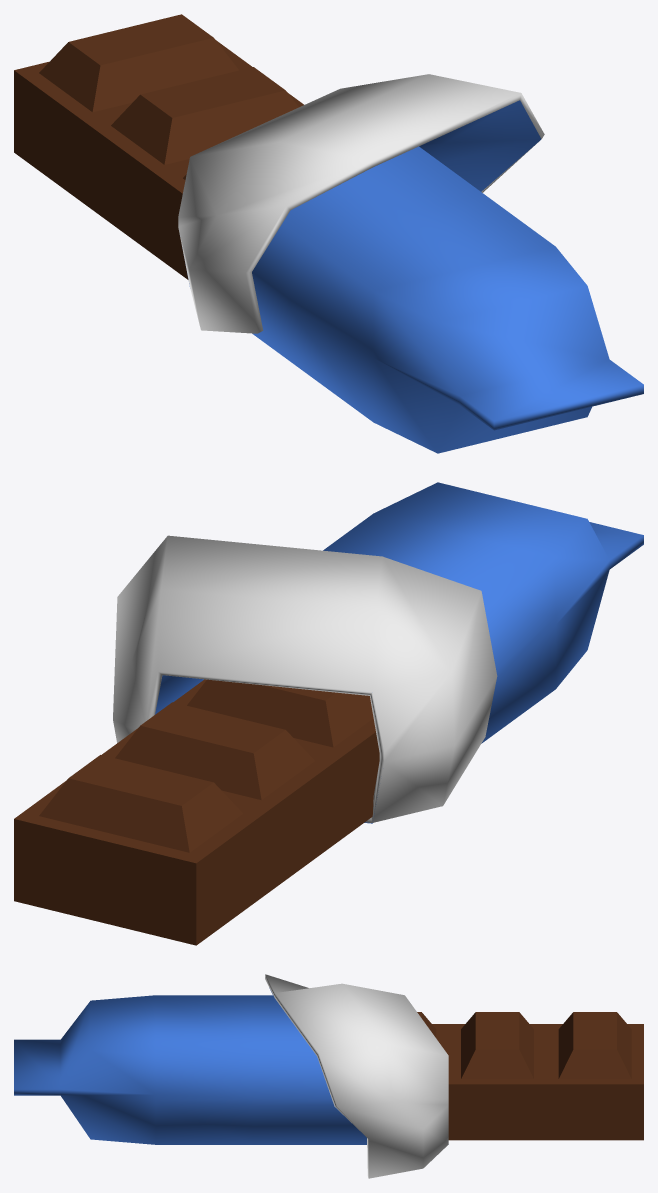
File: chocolate bar.fbx
The picture shows the model from 3 angles, top to bottom: view 1: azimuth 30°, elevation 25°; view 2: azimuth 150°, elevation 25°; view 3: azimuth 270°, elevation 25°; orthographic projection. The views are drawn at different scales.
Parts seen in each view (by area): view 1: Cube; view 2: Cube; view 3: Cube.
Boxes of the visible parts, left/top/right/bottom form: Cube: left=14, top=14, right=643, bottom=453; Cube: left=14, top=482, right=643, bottom=945; Cube: left=14, top=974, right=643, bottom=1178.
Size of the model in its own units: 380 by 203 by 881.
